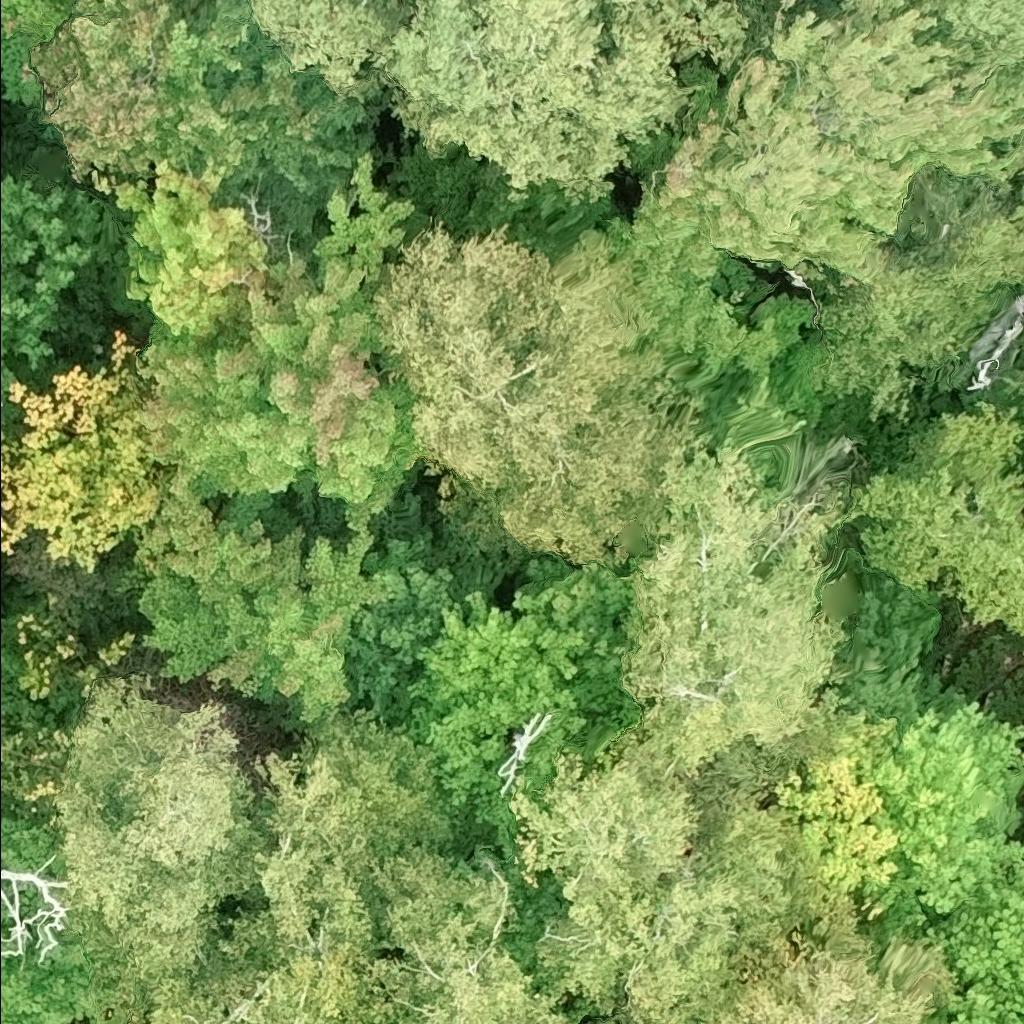crown: (116, 151, 420, 530), (364, 221, 692, 569), (124, 707, 458, 1023), (602, 434, 874, 807), (0, 674, 268, 1023), (502, 742, 832, 1023), (115, 462, 403, 730), (377, 579, 586, 855), (844, 699, 1023, 947), (854, 400, 1023, 635), (0, 330, 161, 571), (375, 846, 568, 1023), (707, 896, 950, 1023), (774, 728, 900, 943), (517, 558, 641, 766), (0, 174, 93, 442), (839, 540, 969, 731), (338, 531, 453, 727), (0, 815, 105, 1023), (924, 861, 1023, 1023), (0, 870, 70, 958), (498, 713, 548, 788), (1010, 362, 1023, 416), (0, 896, 13, 939), (0, 940, 17, 952), (0, 402, 2, 405)
